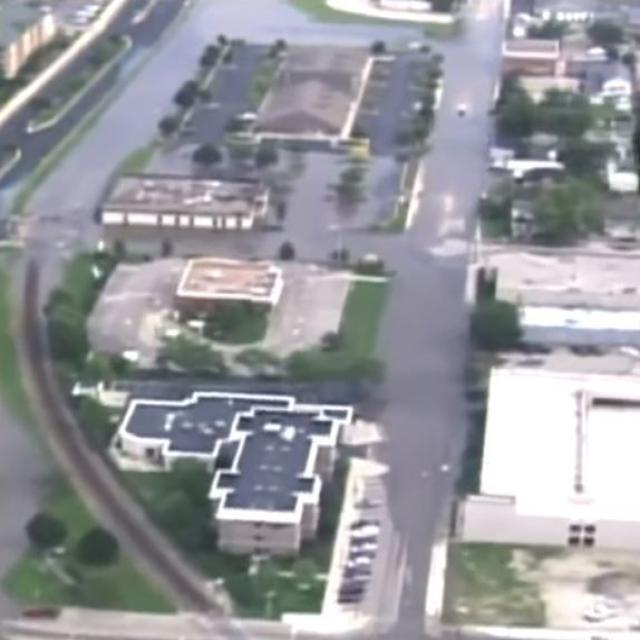flooded_areas: (22, 14, 498, 512)
